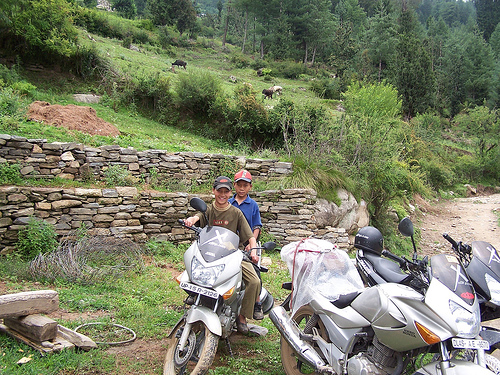without_mask: (233, 178, 254, 199), (212, 184, 232, 204)
